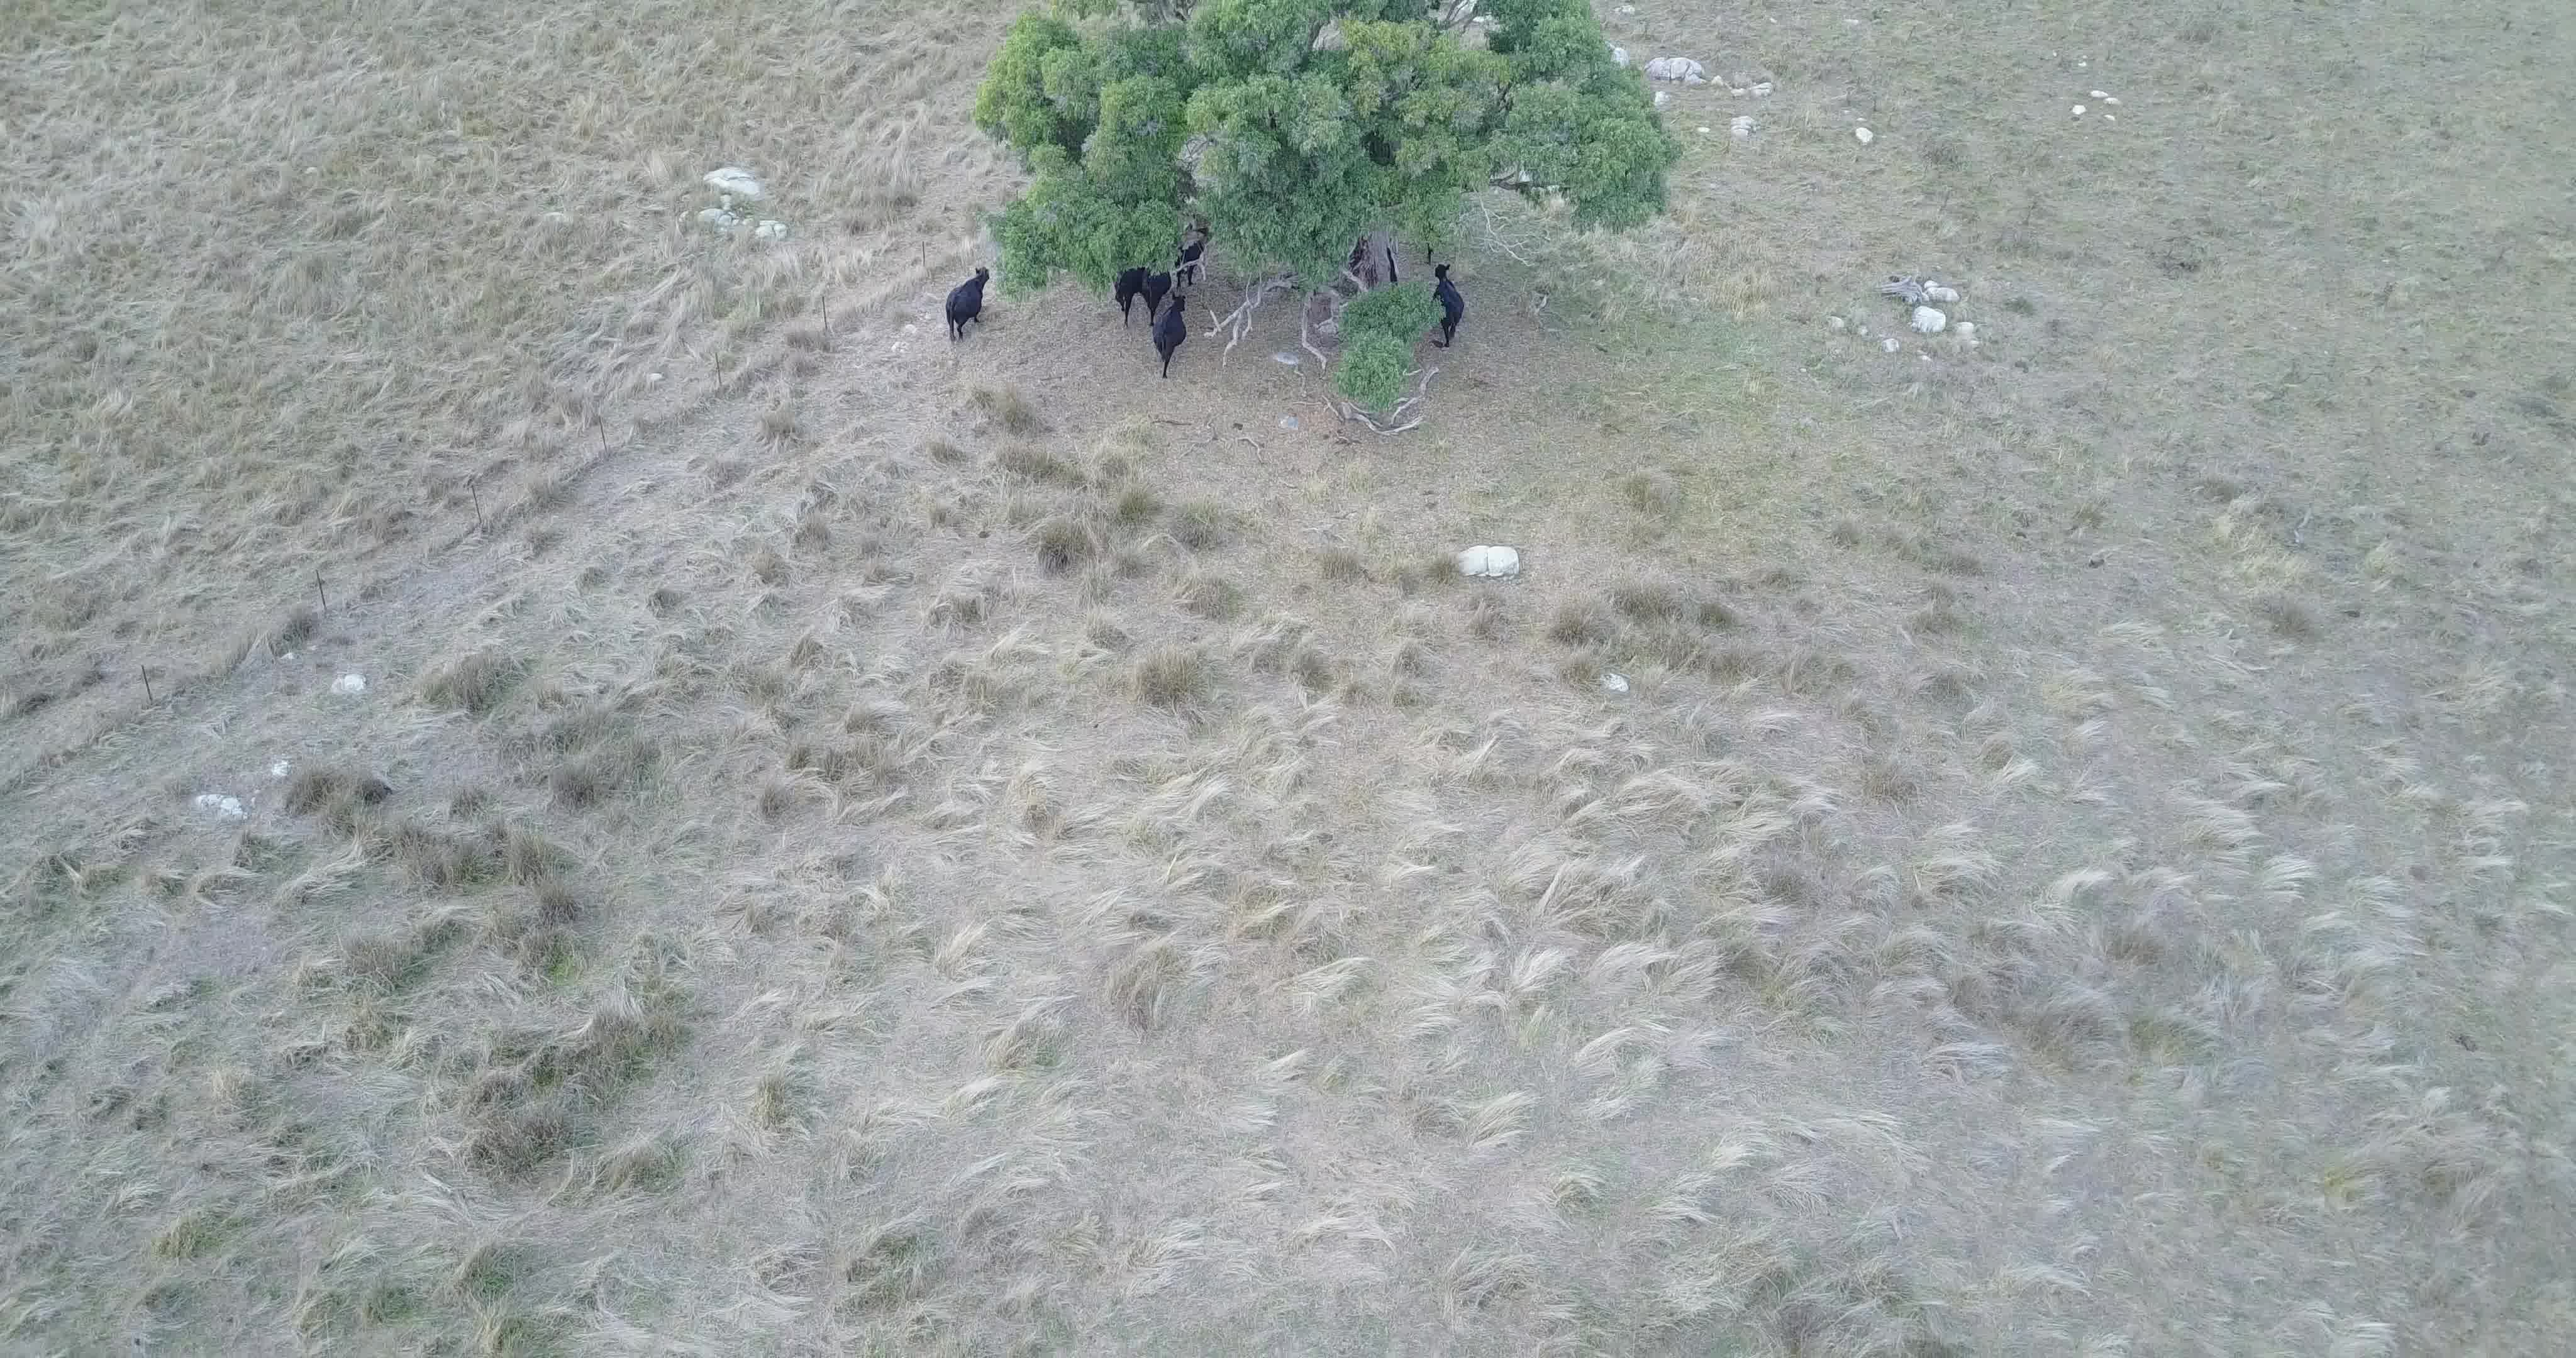cattle: (939, 264, 993, 346), (1421, 259, 1472, 346), (1148, 295, 1191, 377), (1107, 254, 1147, 325), (1174, 223, 1211, 290), (1147, 262, 1177, 319)
